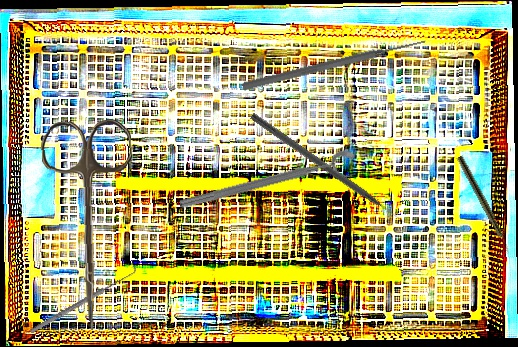Fixation Ring: (177, 148, 360, 223)
Handpiece: (455, 155, 514, 255)
Hook Surgical: (248, 111, 407, 227), (27, 264, 139, 335)
Iris Scissors: (40, 118, 141, 332)
Pusher: (241, 35, 429, 93)
